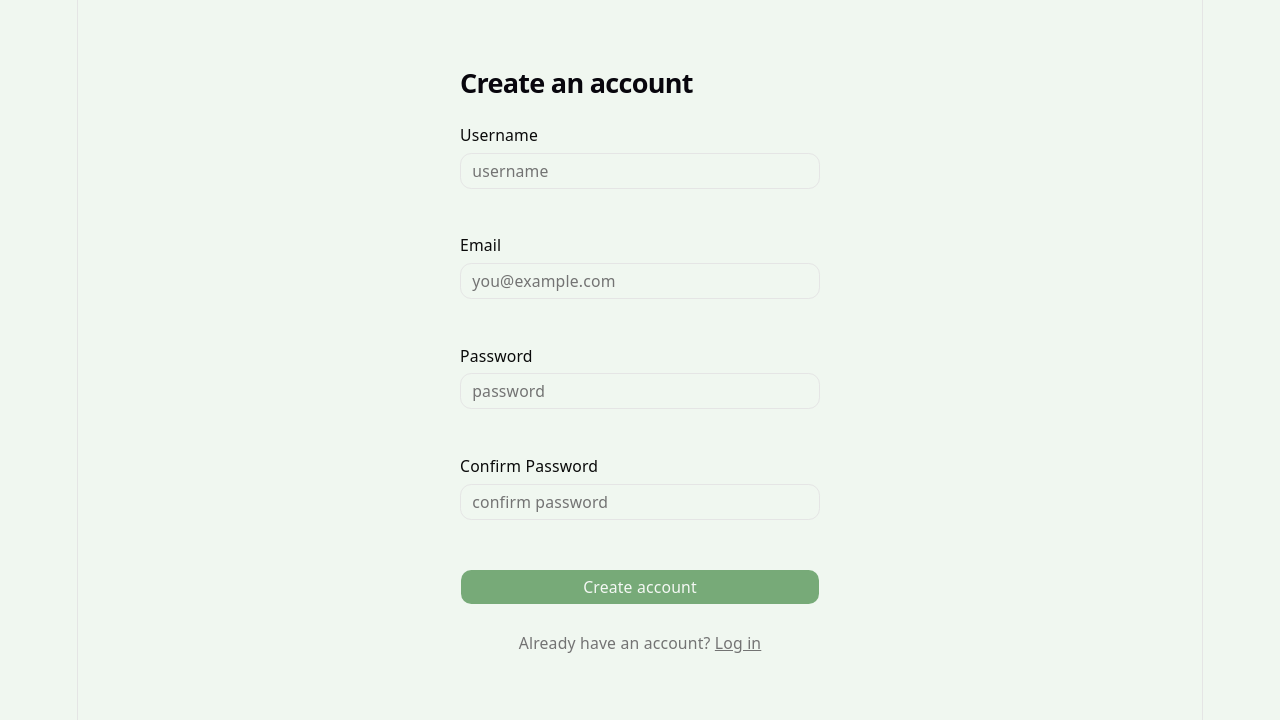
Test: Register › shows a password mismatch error when passwords differ
Type "alice" into the field labelled "Username".
click(640, 171); type("alice")  # box [460,153,820,189]
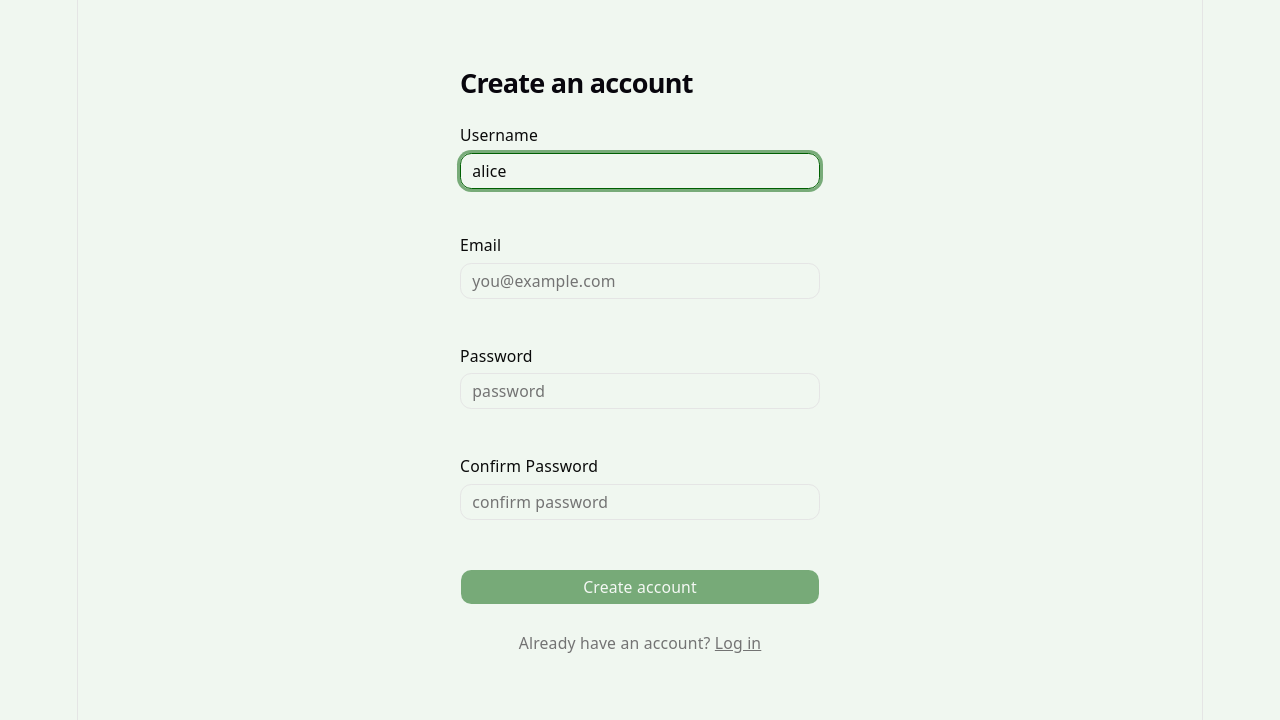
Type "alice@example.com" into the field labelled "Email".
click(640, 281); type("alice@example.com")  # box [460,263,820,299]
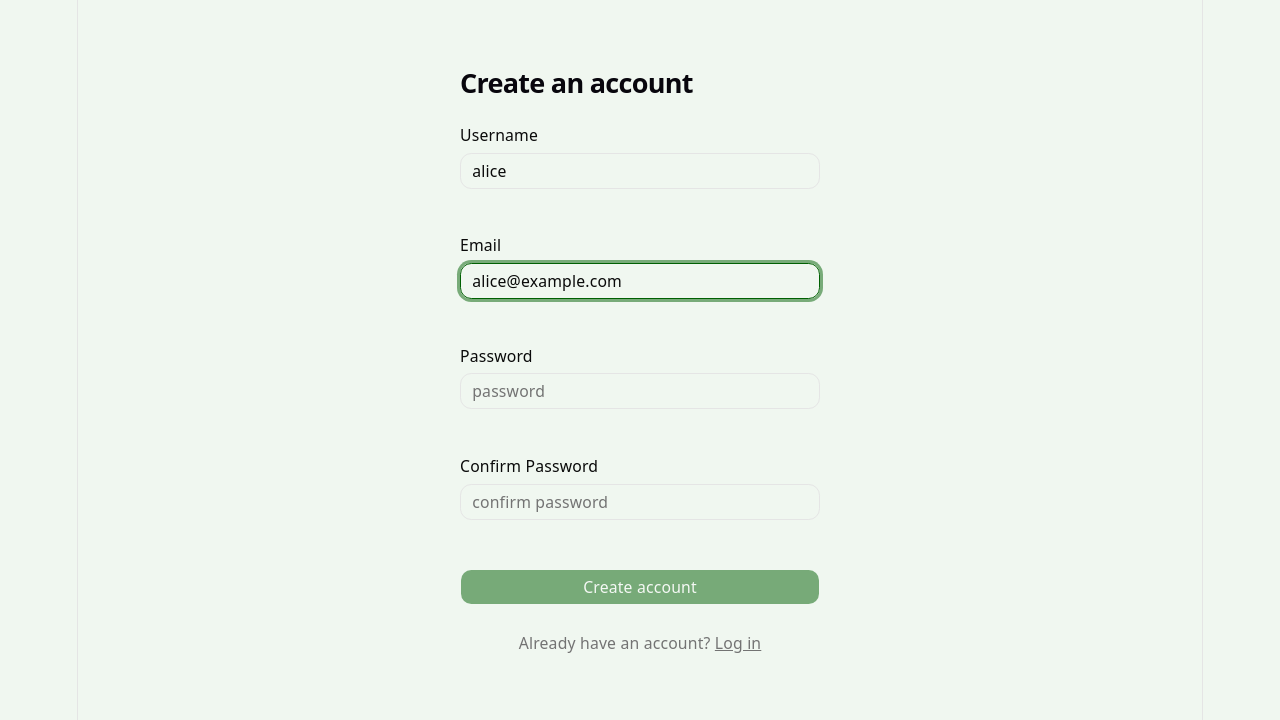
Type "password1" into the password field labelled "Password".
click(640, 392); type("password1")  # box [460,374,820,410]
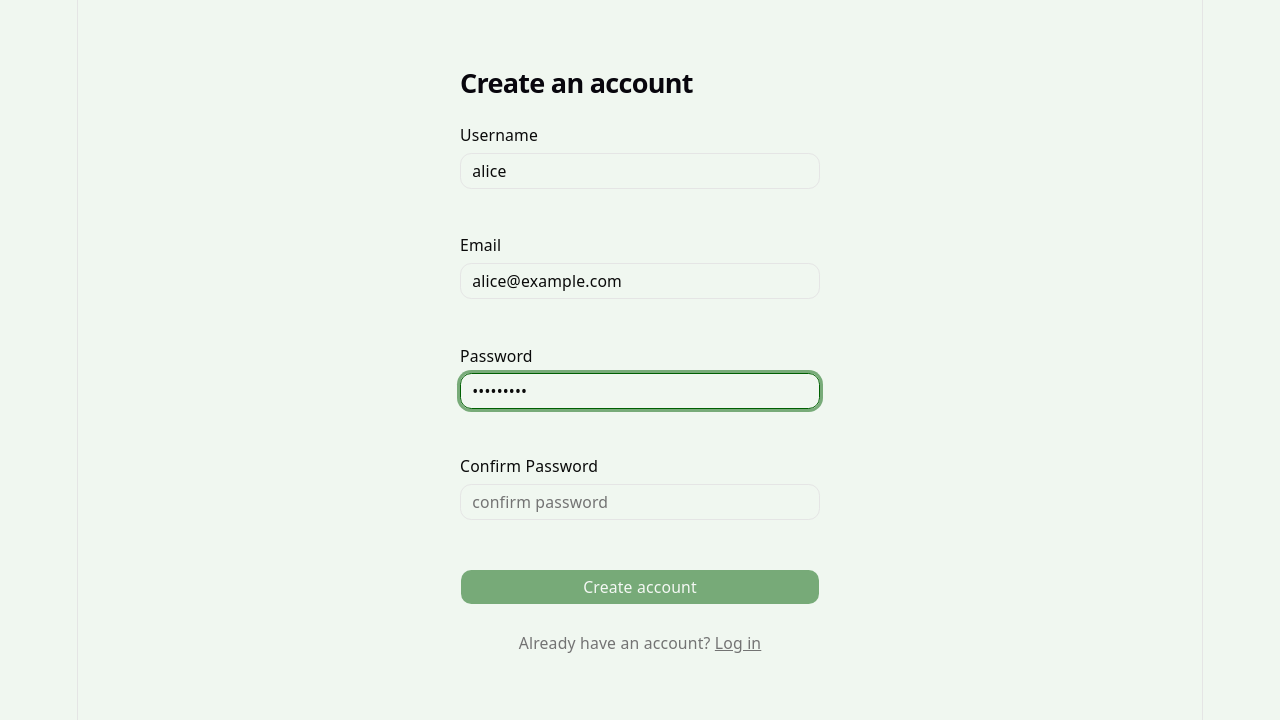
Type "password2" into the password field labelled "Confirm Password".
click(640, 502); type("password2")  # box [460,484,820,520]
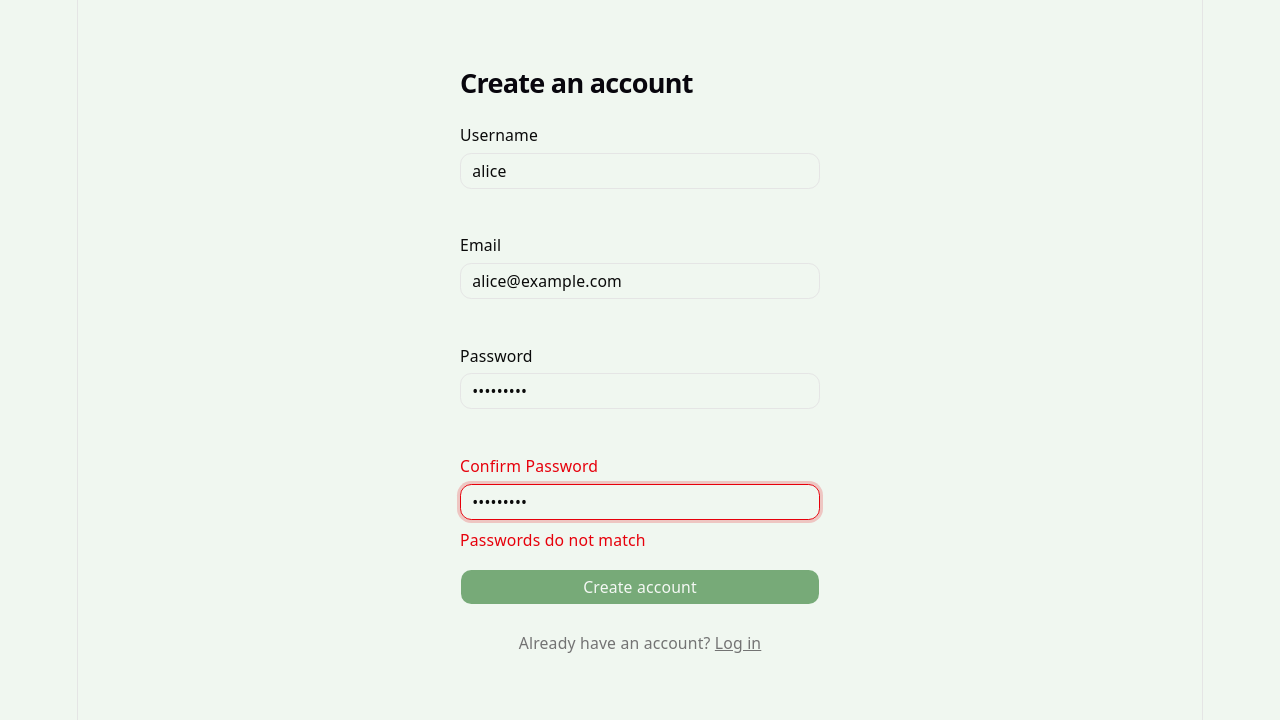
expect the text "Passwords do not match" is shown: met, box [460,529,646,551]
